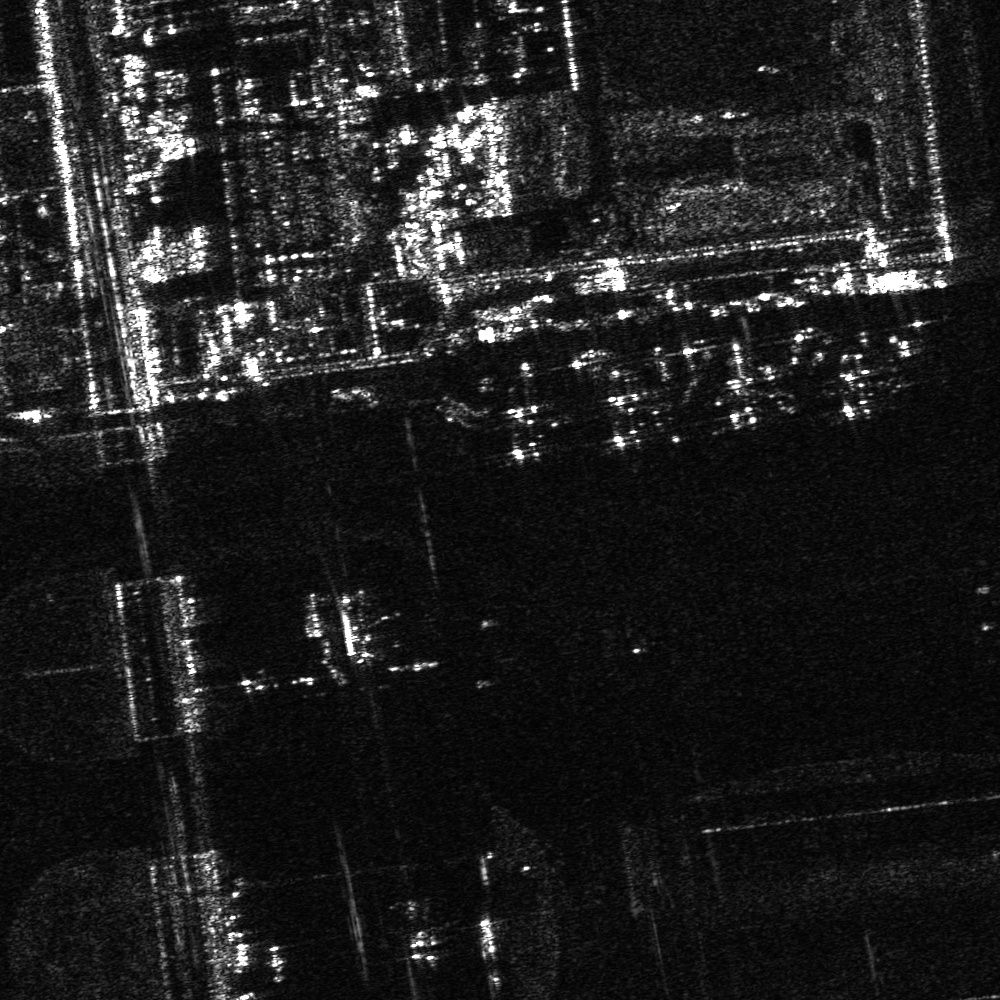Boeing787: (708, 344, 792, 438), (488, 362, 566, 460), (589, 357, 661, 444), (826, 338, 891, 421)
